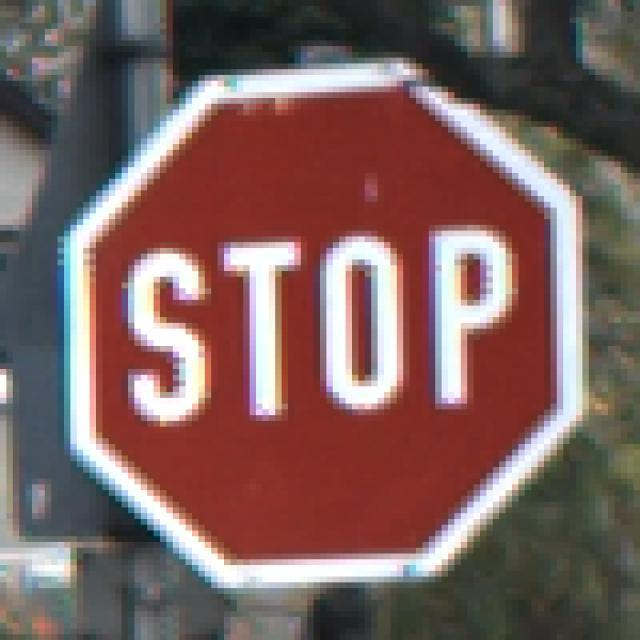stop: (59, 64, 594, 586)
